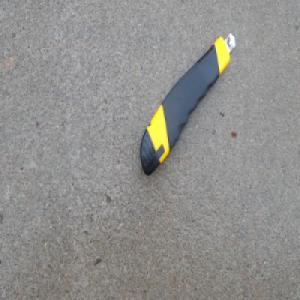Cutter: (138, 32, 235, 179)
